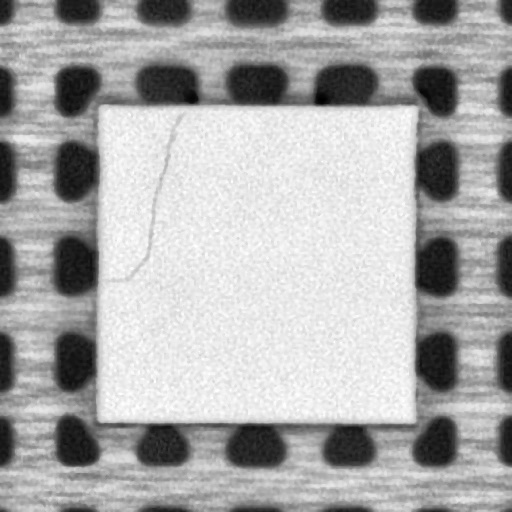DIE_CRACK: (106, 111, 184, 285)
